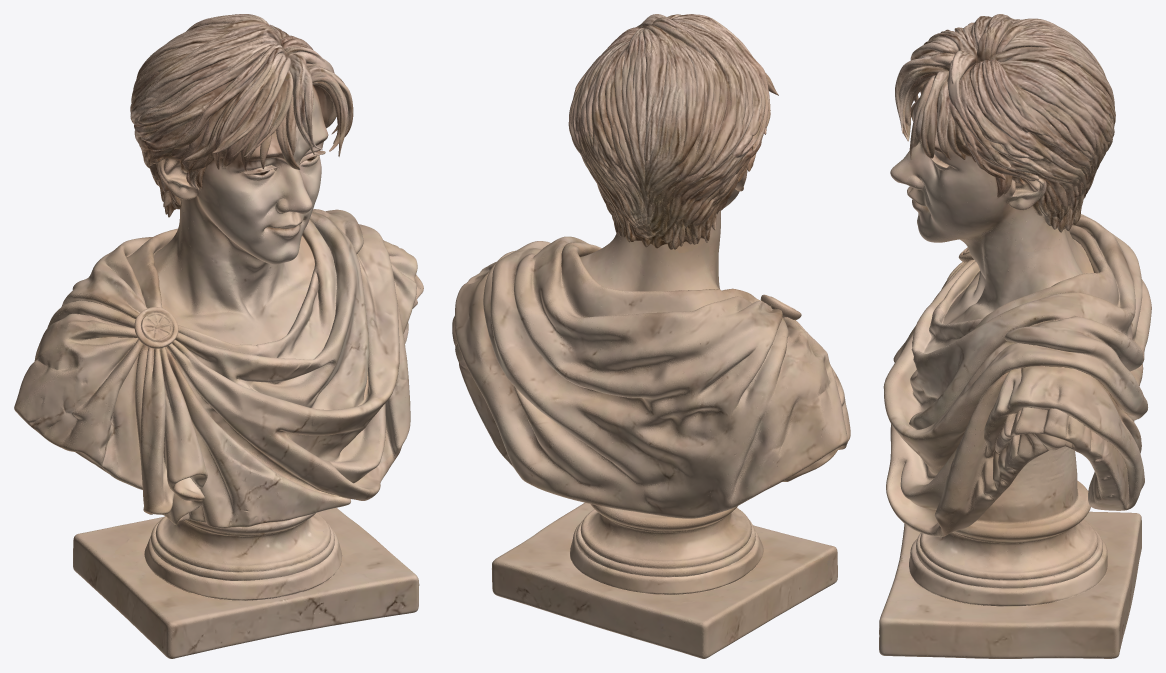
3 views of the same model, side by side, from view 1: azimuth 30°, elevation 25°; view 2: azimuth 150°, elevation 25°; view 3: azimuth 270°, elevation 25° (orthographic). The views are drawn at different scales.
Visible parts, largest first — view 1: model; view 2: model; view 3: model.
Boxes of the visible parts, x1,y1,x2,y2 form: model: (14, 14, 423, 658); model: (452, 14, 850, 658); model: (879, 14, 1151, 658).
Bounding box in the file's own units: 1.36 × 1.9 × 0.811.
Materials: 1 (1 with a texture image).
